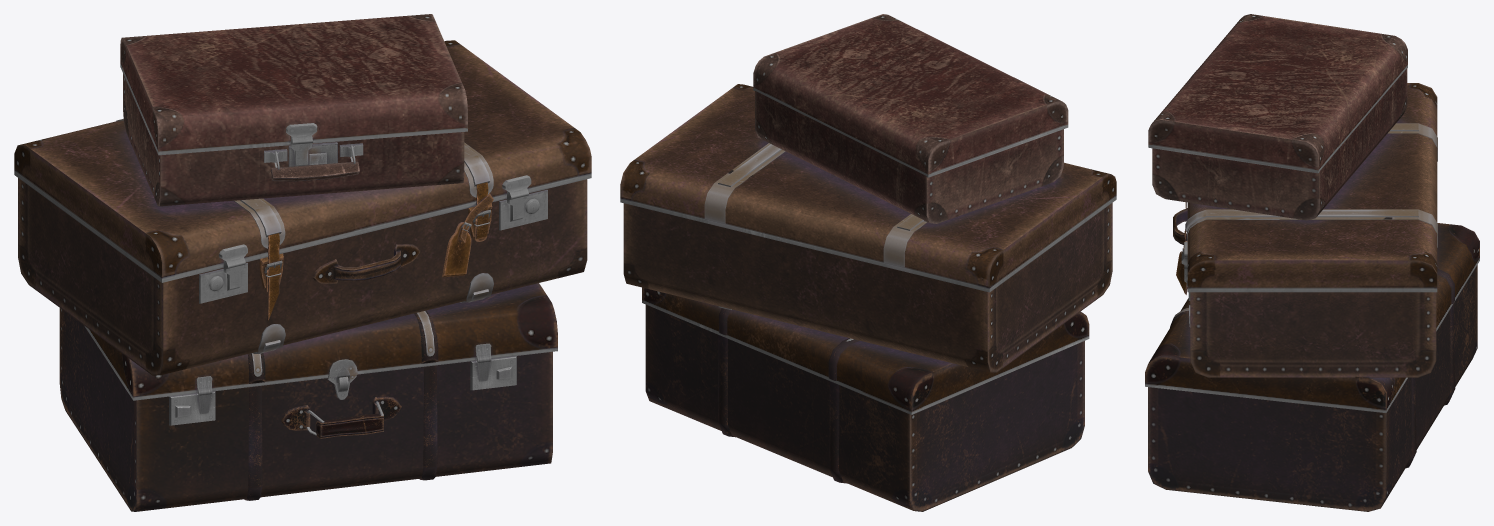
File: suitcase.glb
3 views of the same model, side by side, from view 1: azimuth 30°, elevation 25°; view 2: azimuth 150°, elevation 25°; view 3: azimuth 270°, elevation 25° (orthographic). The views are drawn at different scales.
Parts seen in each view (by area): view 1: b_low, a_low, c_low; view 2: b_low, a_low, c_low; view 3: b_low, a_low, c_low.
Boxes of the visible parts, x1,y1,x2,y2 form: b_low: [18, 73, 587, 511]; a_low: [14, 14, 591, 438]; c_low: [240, 145, 493, 500]; b_low: [623, 91, 1112, 511]; a_low: [620, 14, 1116, 414]; c_low: [718, 144, 923, 483]; b_low: [1148, 68, 1477, 511]; a_low: [1145, 14, 1479, 412]; c_low: [1170, 124, 1455, 468].
Bounding box in the file's own units: 0.801 × 0.7 × 0.6312.
1 material, 1 textured.
